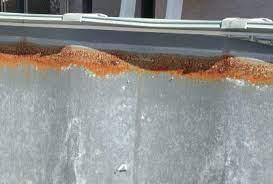Corrosion: (1, 37, 273, 87)
